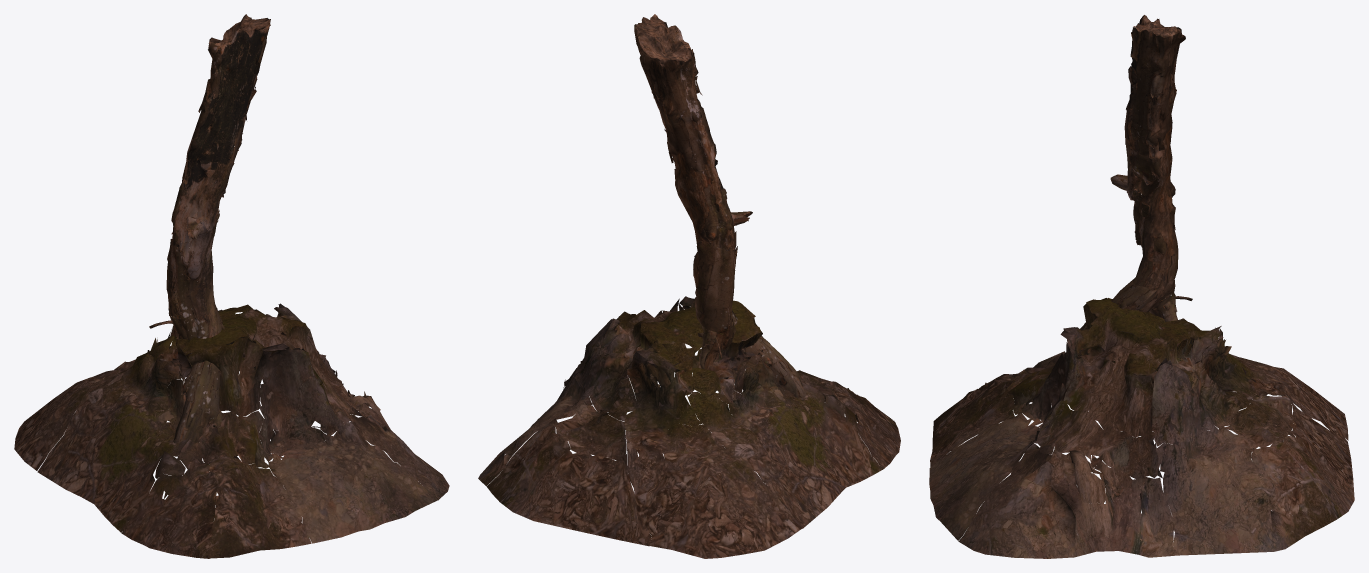
File: rotten_mass.fbx
The picture shows the model from 3 angles, left to right: view 1: azimuth 30°, elevation 25°; view 2: azimuth 150°, elevation 25°; view 3: azimuth 270°, elevation 25°; orthographic projection. The views are drawn at different scales.
Parts seen in each view (by area): view 1: LOD1_stump_CH1_west_outer_mass, LOD1_trunk_CH1_west_outer_mass; view 2: LOD1_stump_CH1_west_outer_mass, LOD1_trunk_CH1_west_outer_mass; view 3: LOD1_stump_CH1_west_outer_mass, LOD1_trunk_CH1_west_outer_mass.
Part boxes in pixels (bbox=[...]): LOD1_stump_CH1_west_outer_mass: bbox=[14, 303, 449, 558]; LOD1_trunk_CH1_west_outer_mass: bbox=[149, 14, 270, 451]; LOD1_stump_CH1_west_outer_mass: bbox=[478, 296, 900, 558]; LOD1_trunk_CH1_west_outer_mass: bbox=[634, 14, 805, 406]; LOD1_stump_CH1_west_outer_mass: bbox=[929, 298, 1354, 558]; LOD1_trunk_CH1_west_outer_mass: bbox=[1080, 15, 1192, 382].
Bounding box in the file's own units: 321 × 438 × 358.
